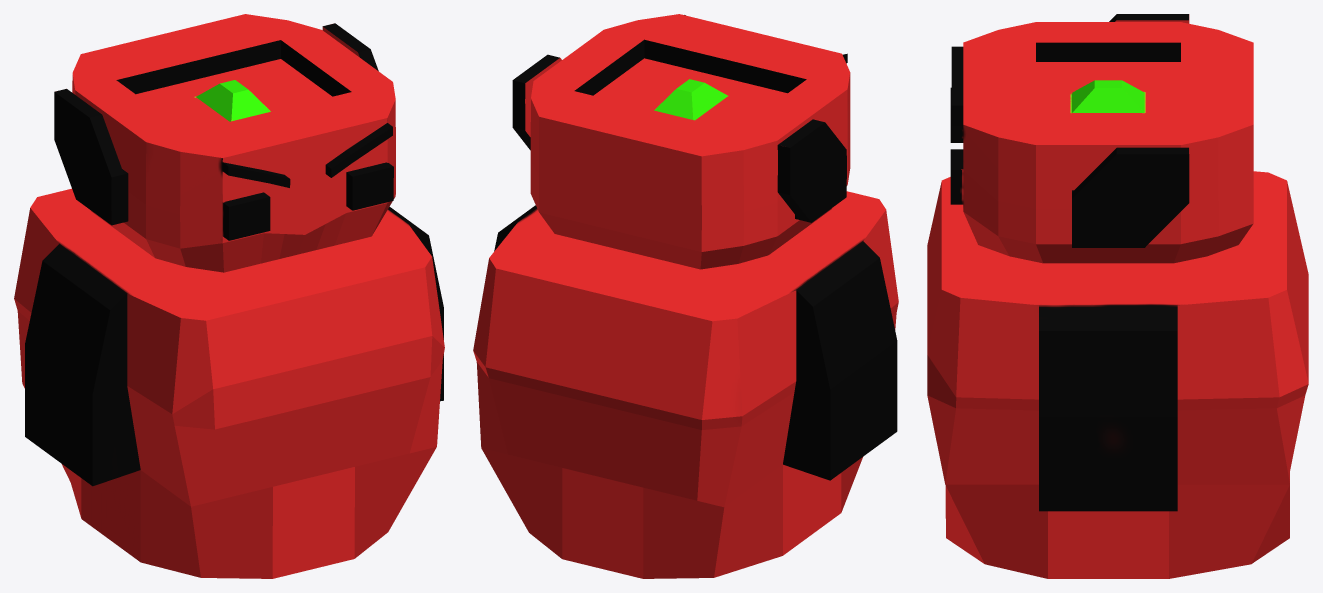
Rendered from Enemy_Second.fbx.
The picture shows the model from 3 angles, left to right: view 1: azimuth 30°, elevation 25°; view 2: azimuth 150°, elevation 25°; view 3: azimuth 270°, elevation 25°; orthographic projection. The views are drawn at different scales.
Parts seen in each view (by area): view 1: Cube; view 2: Cube; view 3: Cube.
Part boxes in pixels (x1,y1,x2,y2): Cube: [14, 14, 444, 578]; Cube: [473, 14, 898, 578]; Cube: [927, 14, 1308, 578].
Bounding box in the file's own units: 199 × 230 × 183.
Materials: 1 (1 with a texture image).
